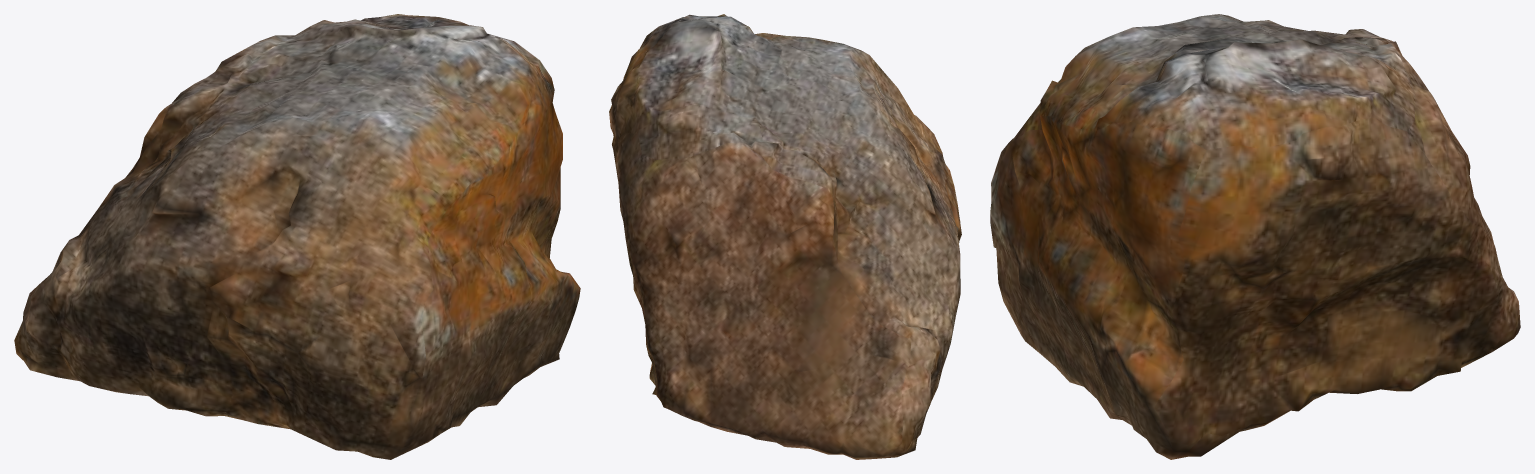
The model's file is boulder.glb.
The picture shows the model from 3 angles, left to right: view 1: azimuth 30°, elevation 25°; view 2: azimuth 150°, elevation 25°; view 3: azimuth 270°, elevation 25°; orthographic projection. The views are drawn at different scales.
Visible parts, largest first — view 1: boulder_04; view 2: boulder_04; view 3: boulder_04.
Part boxes in pixels (x1,y1,x2,y2): boulder_04: (14, 14, 580, 459); boulder_04: (609, 14, 961, 459); boulder_04: (990, 14, 1520, 459).
Bounding box in the file's own units: 2.52 × 1.9 × 2.48.
1 material, 1 textured.
